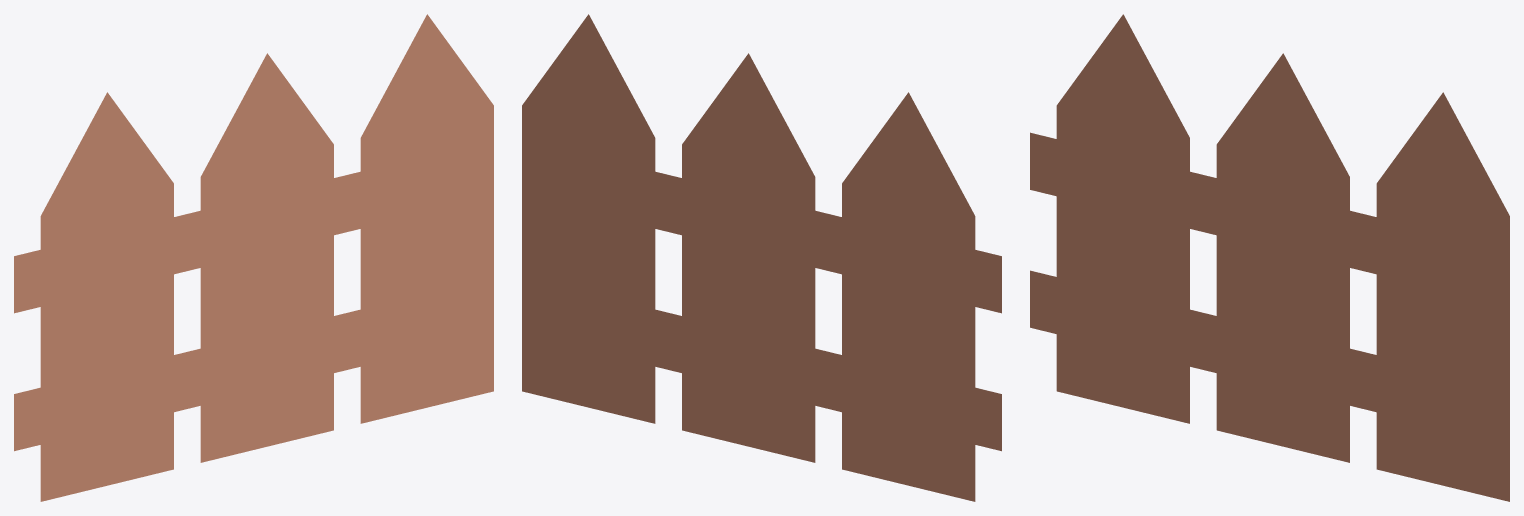
Rendered from SM_Fence2 (2).fbx.
The picture shows the model from 3 angles, left to right: view 1: azimuth 30°, elevation 25°; view 2: azimuth 150°, elevation 25°; view 3: azimuth 330°, elevation 25°; orthographic projection.
Visible parts, largest first — view 1: Cube.002; view 2: Cube.002; view 3: Cube.002.
Part boxes in pixels (x1,y1,x2,y2): Cube.002: (14, 14, 493, 501); Cube.002: (522, 14, 1001, 501); Cube.002: (1030, 14, 1509, 501).
Size of the model in its own units: 720 by 564 by 9.2e-05.
